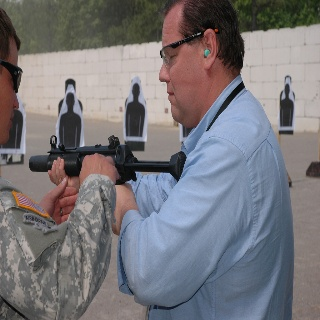rifle: (28, 132, 188, 185)
